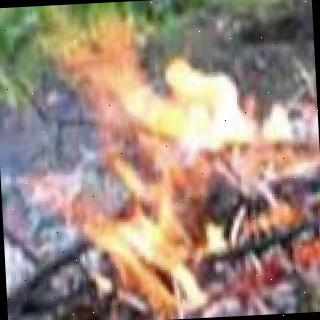fire: (31, 16, 320, 310)
